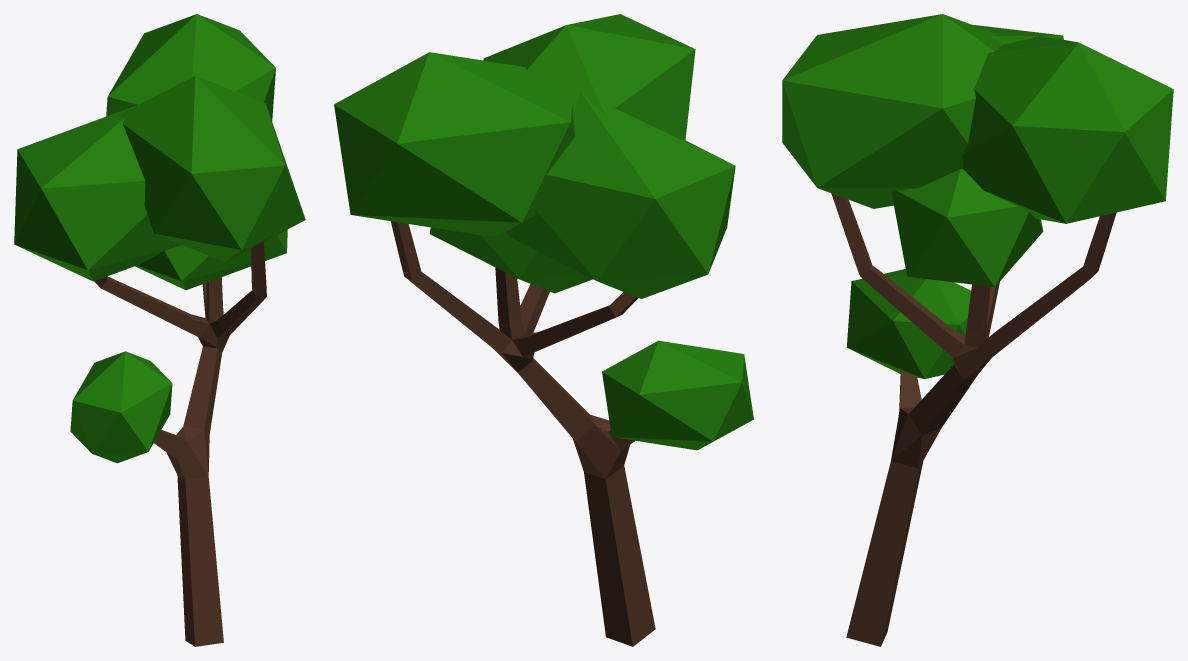
The model's file is Tree_VAR1_v002.fbx.
3 views of the same model, side by side, from view 1: azimuth 30°, elevation 25°; view 2: azimuth 150°, elevation 25°; view 3: azimuth 270°, elevation 25° (orthographic). The views are drawn at different scales.
Visible parts, largest first — view 1: Plane.001; view 2: Plane.001; view 3: Plane.001.
Part boxes in pixels (box(x1,y1,x2,y2)): Plane.001: box(14, 14, 305, 646); Plane.001: box(334, 14, 753, 646); Plane.001: box(782, 14, 1173, 646).
Size of the model in its own units: 1.35 by 2.5 by 1.38.
